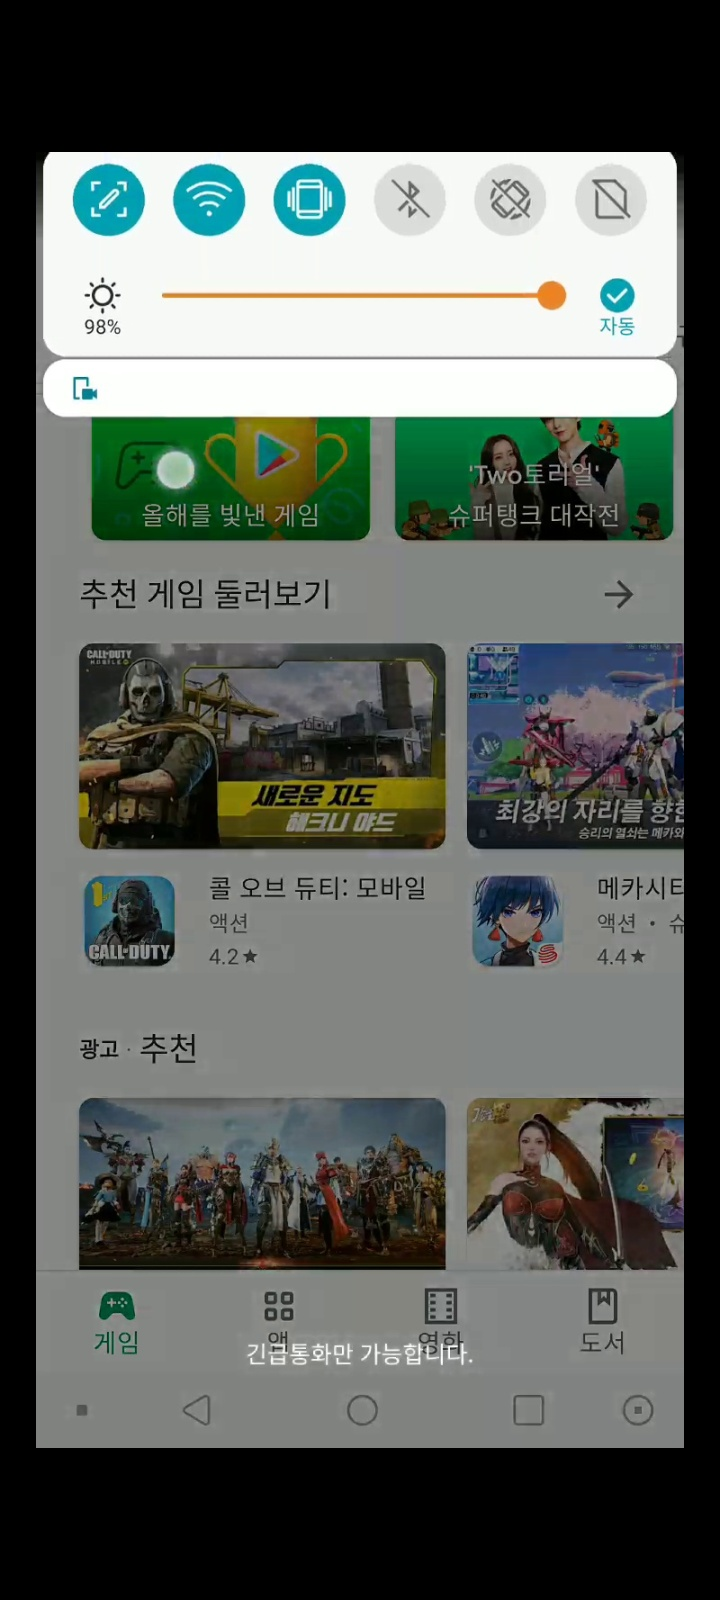Cursor: (153, 449, 198, 494)
